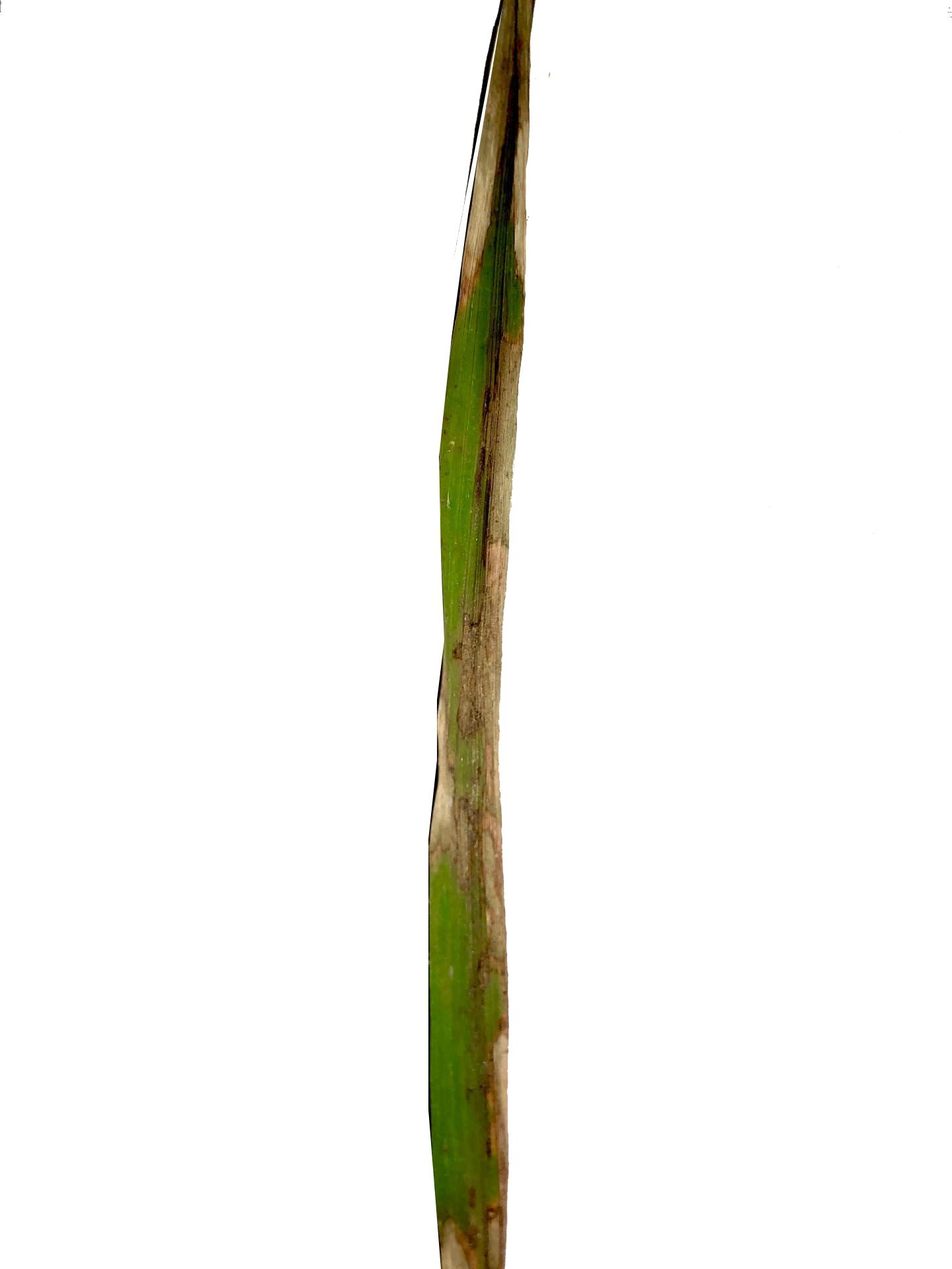Blight: (453, 3, 549, 311), (430, 638, 516, 853), (479, 291, 519, 631), (476, 833, 512, 1176), (440, 1193, 509, 1269)
